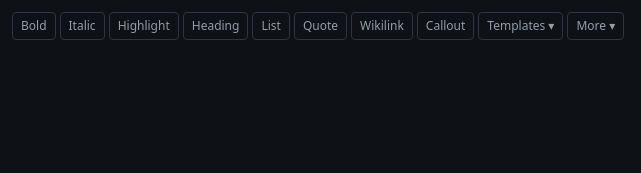
Test: entry template inserts › closes the Templates menu after a template is chosen
The width and height of the screenshot is (641, 173).
Click the button "Templates ▾".
click(521, 26)  # box [478, 12, 563, 40]
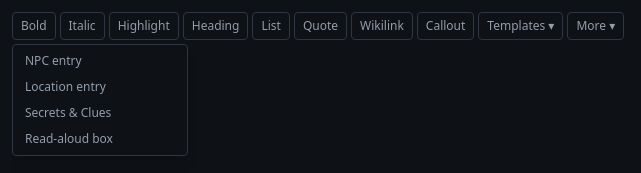
Click the button "NPC entry".
click(100, 61)  # box [17, 49, 183, 73]
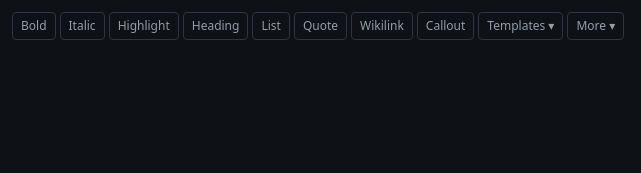
Result: the button "Location entry" is gone
